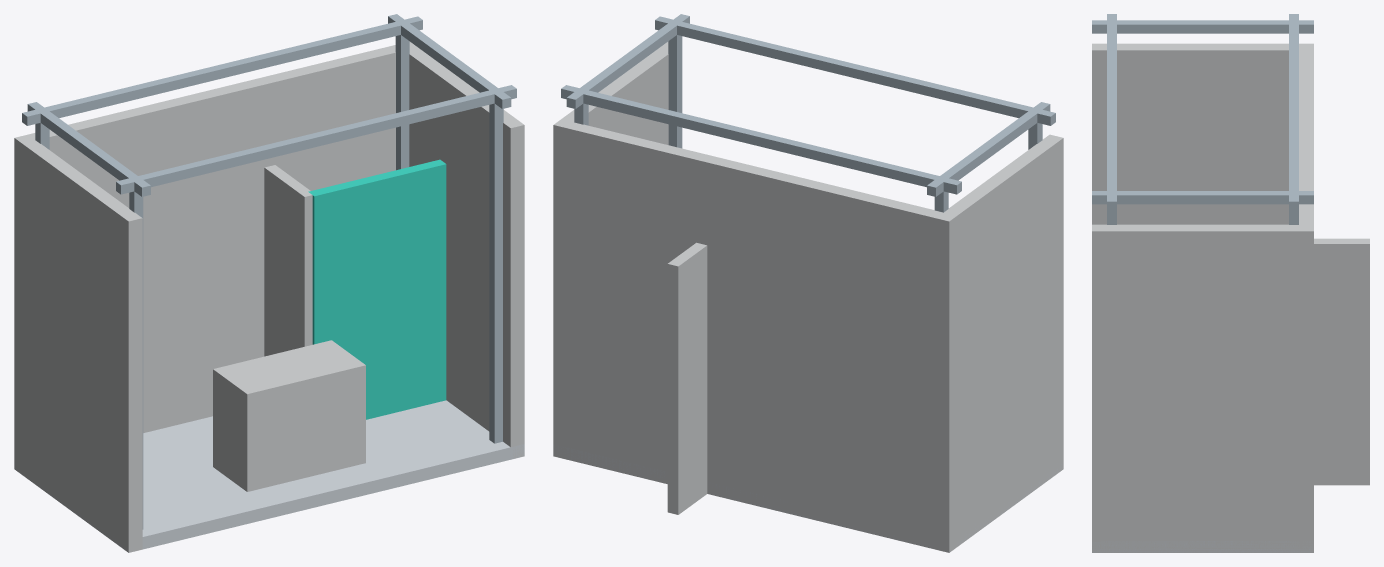
3 renders of one model, left to right at view 1: azimuth 30°, elevation 25°; view 2: azimuth 150°, elevation 25°; view 3: azimuth 270°, elevation 25°, orthographic. The views are drawn at different scales.
Visible parts, largest first — view 1: Exhibition Booth Concept; view 2: Exhibition Booth Concept; view 3: Exhibition Booth Concept.
Part boxes in pixels (x1,y1,x2,y2): Exhibition Booth Concept: [14, 14, 524, 552]; Exhibition Booth Concept: [553, 14, 1063, 552]; Exhibition Booth Concept: [1092, 14, 1369, 552].
Bounding box in the file's own units: 4 × 3.49 × 2.5.
